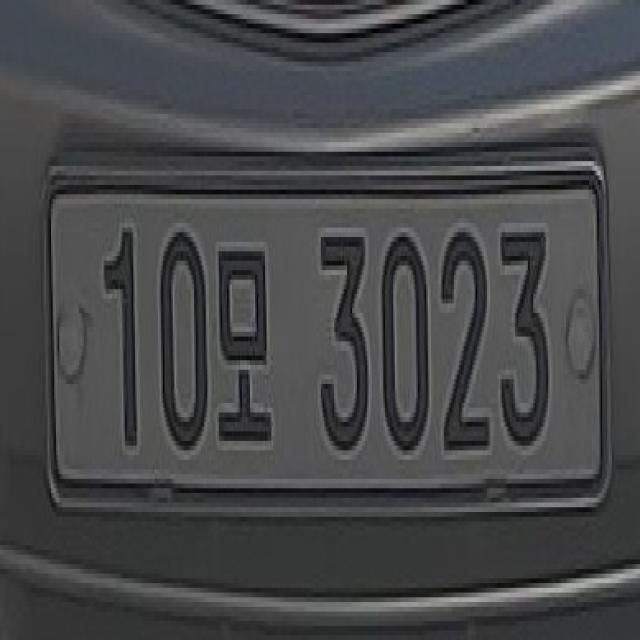plat: (42, 139, 611, 512)
